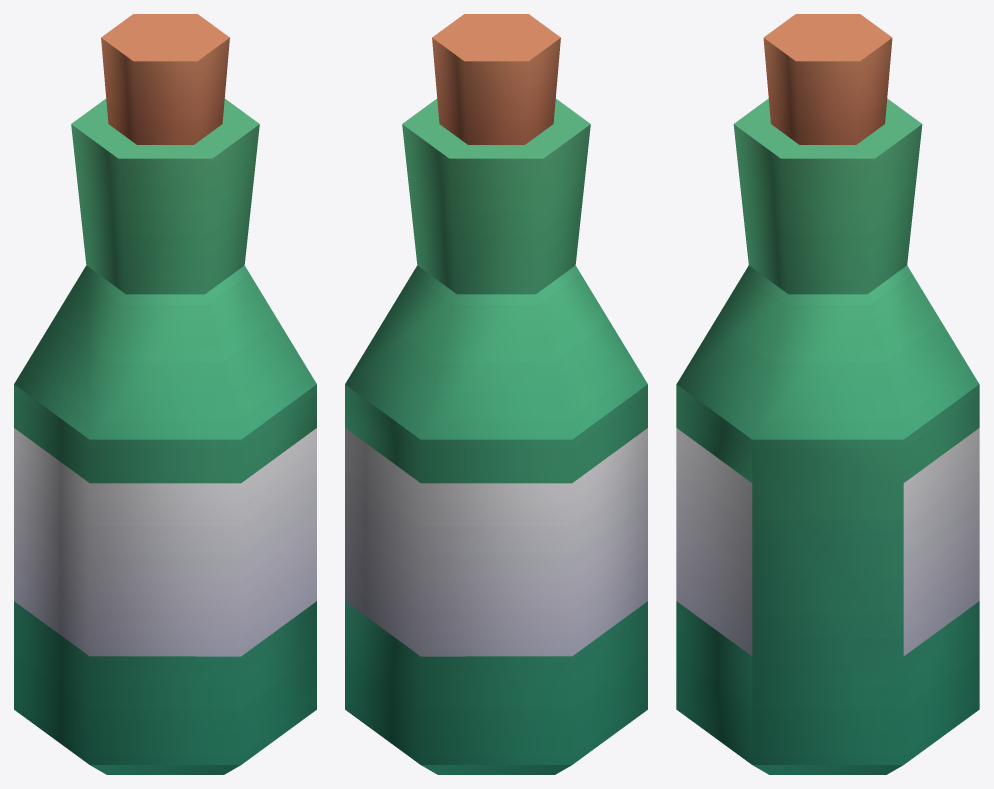
File: bottle.glb
3 renders of one model, left to right at view 1: azimuth 30°, elevation 25°; view 2: azimuth 150°, elevation 25°; view 3: azimuth 270°, elevation 25°, orthographic.
Parts seen in each view (by area): view 1: bottle; view 2: bottle; view 3: bottle.
Part boxes in pixels (x1=…): bottle: x1=14, y1=14, x2=316, y2=774; bottle: x1=345, y1=14, x2=647, y2=774; bottle: x1=676, y1=14, x2=979, y2=774.
Bounding box in the file's own units: 0.0527 × 0.1539 × 0.0608.
1 material, 1 textured.
